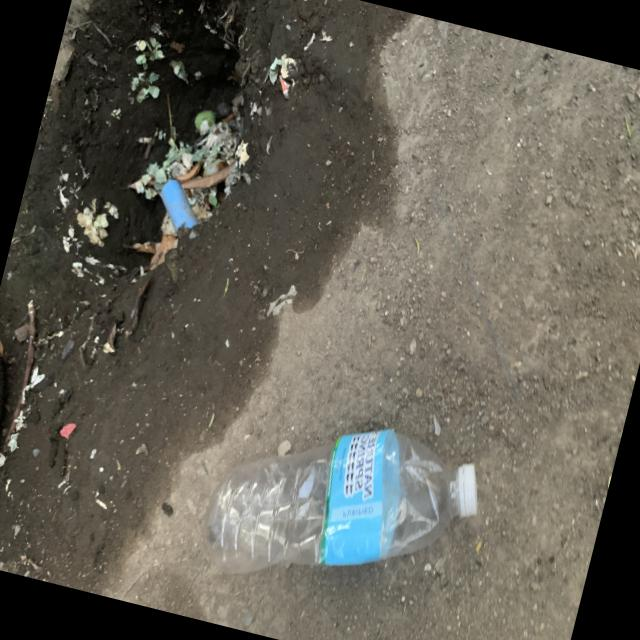Bottle: (206, 429, 476, 573)
